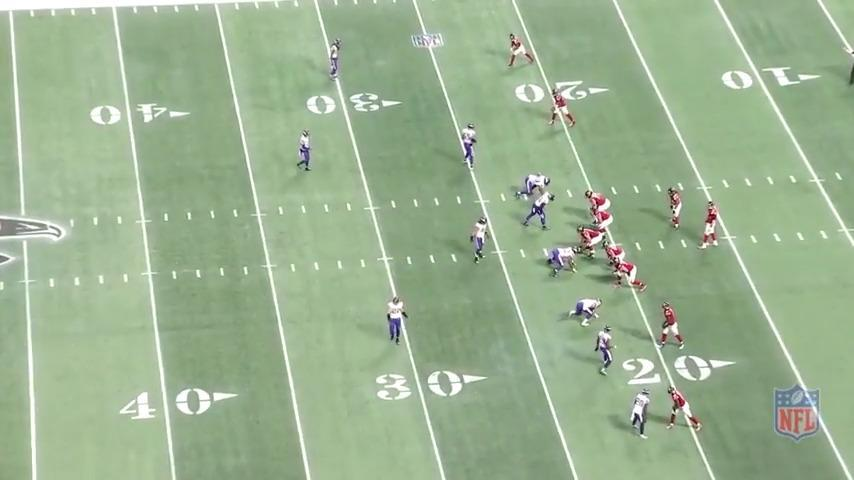defense: (384, 294, 409, 350), (524, 190, 557, 232), (630, 389, 654, 442), (544, 247, 580, 282), (568, 296, 605, 327), (469, 214, 491, 266), (517, 171, 555, 201), (596, 324, 617, 378), (460, 121, 482, 170), (294, 128, 315, 176), (326, 37, 345, 84)
oline: (611, 257, 647, 294), (574, 225, 608, 259), (587, 189, 615, 227), (591, 204, 615, 241), (604, 241, 630, 272)
qb: (695, 199, 721, 254)
skill: (668, 382, 707, 434), (548, 83, 579, 132), (658, 300, 687, 351), (507, 32, 538, 72), (665, 183, 685, 233)
